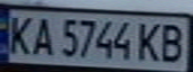4: (93, 17, 118, 60), (112, 18, 136, 61)
5: (57, 16, 81, 57)
7: (75, 16, 96, 58)
A: (27, 14, 57, 57)
B: (154, 20, 190, 64)
K: (3, 12, 36, 56), (133, 19, 166, 63)
